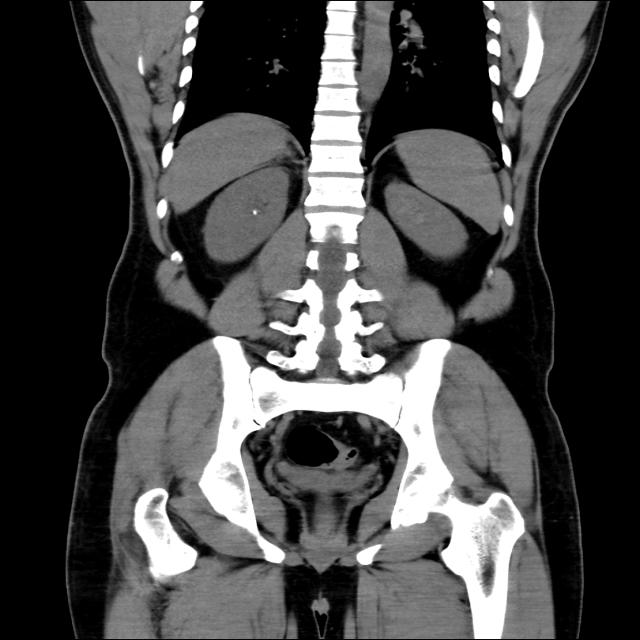kidneystone: (252, 209, 261, 215)
